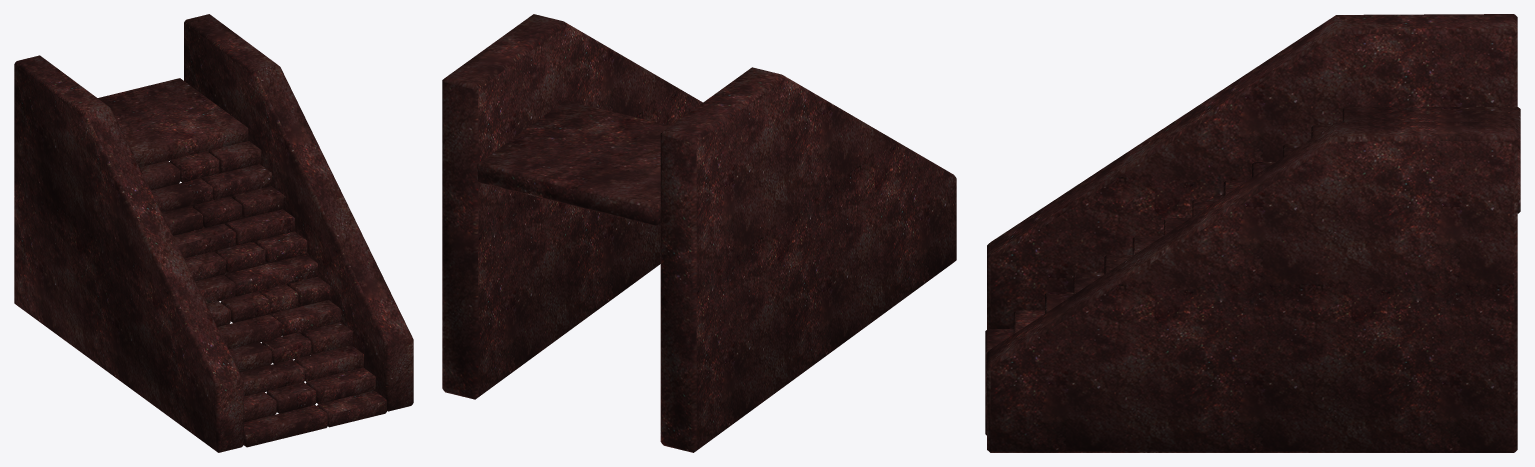
File: stairs test.FBX
3 renders of one model, left to right at view 1: azimuth 30°, elevation 25°; view 2: azimuth 150°, elevation 25°; view 3: azimuth 270°, elevation 25°, orthographic. The views are drawn at different scales.
Visible parts, largest first — view 1: stairs test; view 2: stairs test; view 3: stairs test.
Boxes of the visible parts, <box> form: stairs test: <box>14,14,413,452</box>; stairs test: <box>442,14,956,452</box>; stairs test: <box>985,14,1520,452</box>.
Bounding box in the file's own units: 158 × 187 × 285.
